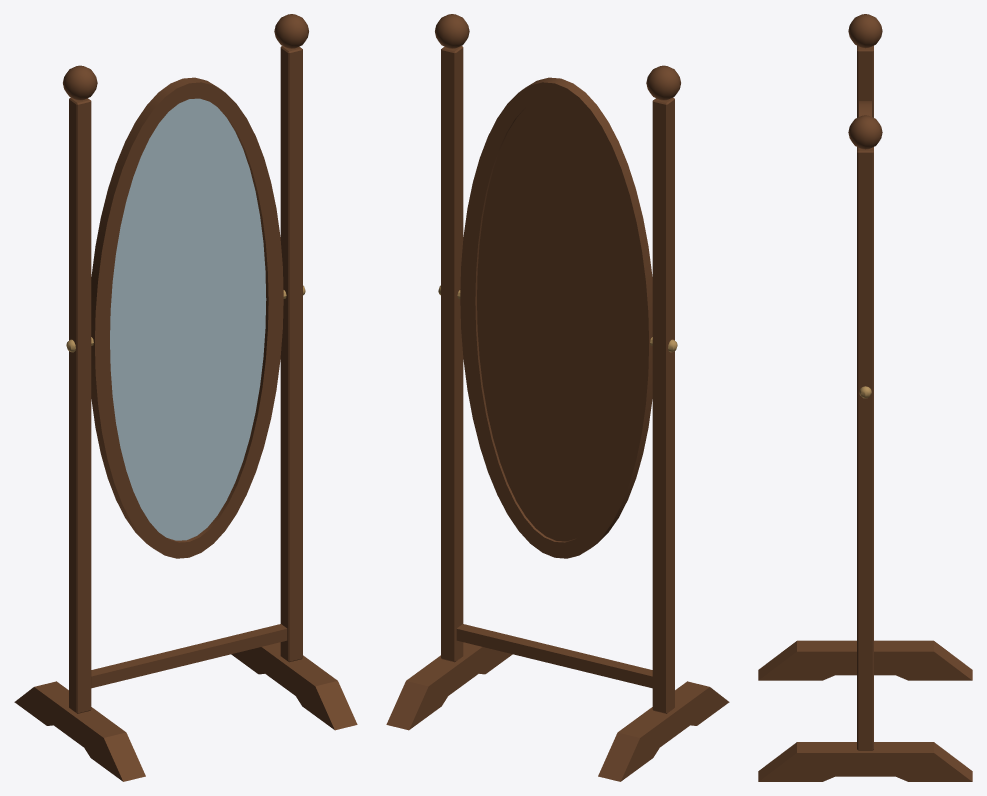
File: cheval_mirror.glb
3 renders of one model, left to right at view 1: azimuth 30°, elevation 25°; view 2: azimuth 150°, elevation 25°; view 3: azimuth 270°, elevation 25°, orthographic.
Visible parts, largest first — view 1: mirror, cheval_mirror, mirror_frame; view 2: mirror_frame, cheval_mirror; view 3: cheval_mirror.
Part boxes in pixels (box(x1,y1,x2,y2)): mirror: box(110, 98, 266, 540); cheval_mirror: box(14, 14, 357, 781); mirror_frame: box(91, 77, 283, 558); mirror_frame: box(460, 77, 652, 558); cheval_mirror: box(386, 14, 729, 781); cheval_mirror: box(758, 14, 972, 781).
Bounding box in the file's own units: 0.64 × 1.7 × 0.5.
